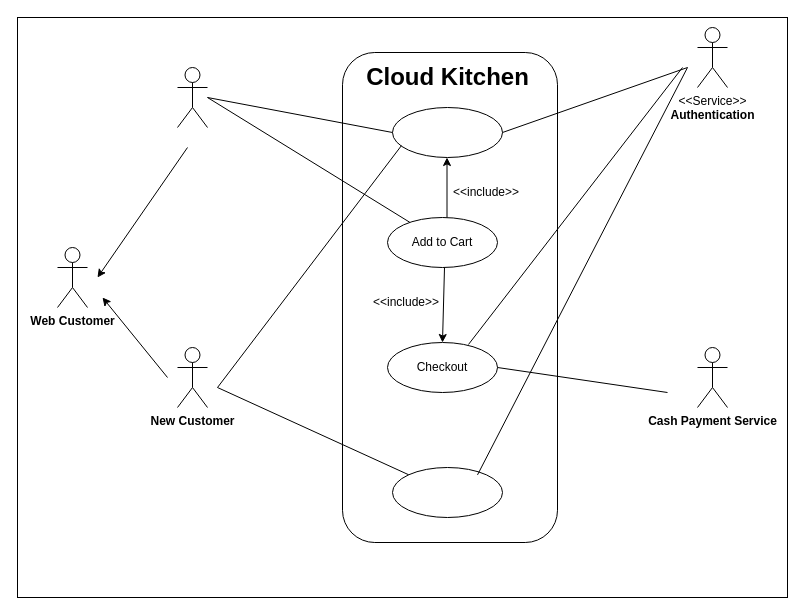
This 805x615 diagram has some shape labels left out. Each missing label, with the centre of its shape:
"Client Register" belongs at (447,492).
"Registered Customer" belongs at (192,97).
"View Items" belongs at (447,132).
